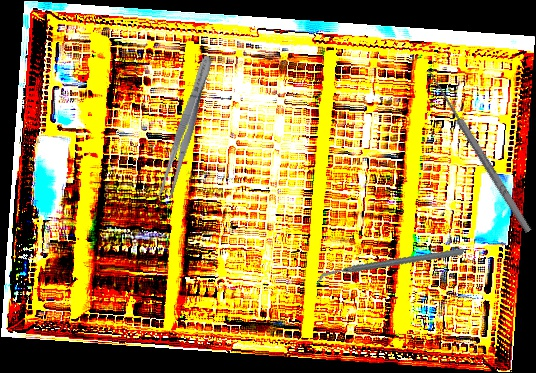Chopper: (315, 215, 465, 317)
Dressing Forceps: (155, 53, 218, 201)
Hook Surgical: (417, 66, 535, 239)
